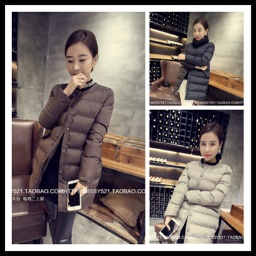face: (58, 28, 105, 90), (192, 120, 230, 167), (180, 17, 214, 46)
